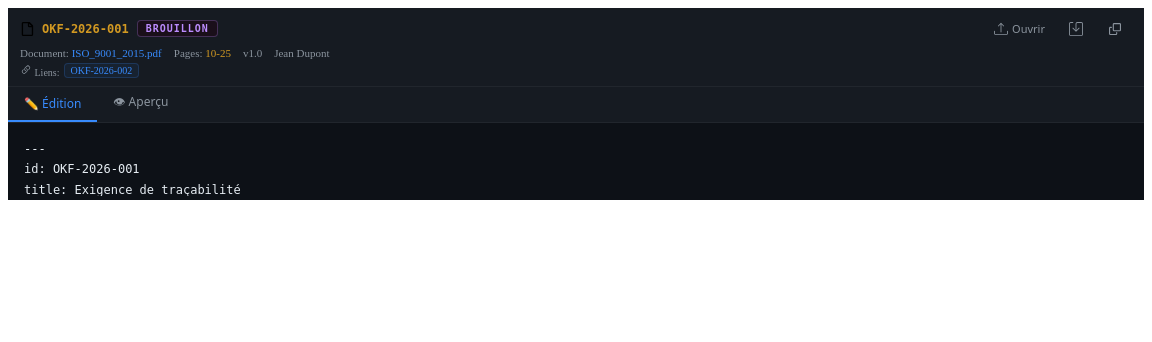
Test: OKFPanel — inline editing via the raw content textarea › switches to the preview tab and renders parsed markdown (stripped of front-matter)
This screenshot has width=1152, height=342.
Click the button "👁 Aperçu" at [141, 104], box [97, 87, 184, 122]
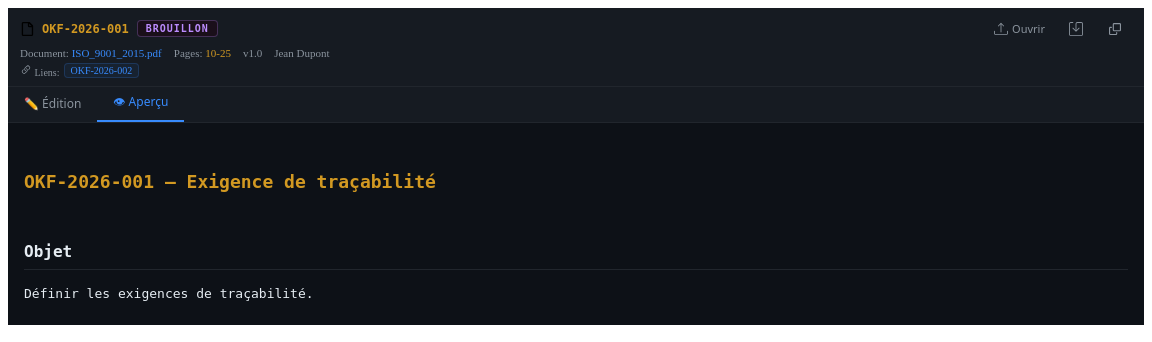
Expected: the heading "Objet" is shown, [24, 238, 1128, 270]
Expected: the text "Définir les exigences de traçabilité." is shown, [24, 286, 314, 301]
